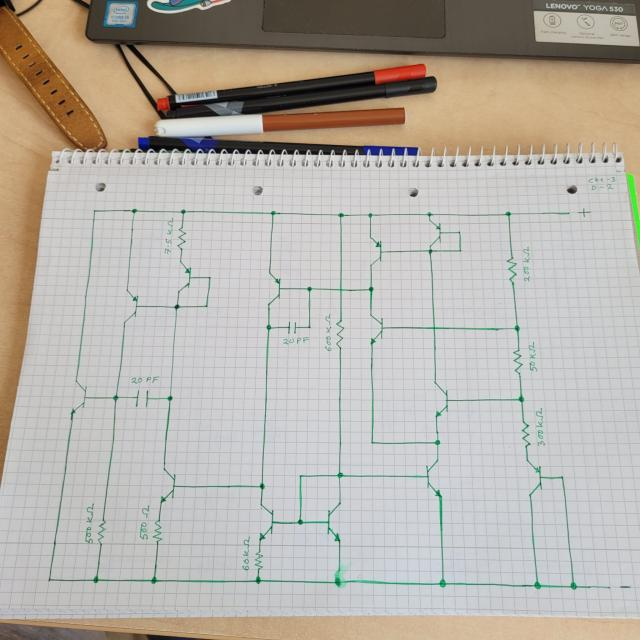capacitor: (134, 387, 151, 409), (285, 320, 298, 336)
crossover: (430, 324, 438, 331), (337, 286, 344, 293)
junction: (332, 576, 344, 587), (532, 579, 543, 590), (568, 581, 578, 591), (438, 578, 448, 588), (111, 392, 120, 402), (512, 323, 522, 332), (516, 394, 526, 403), (432, 438, 442, 447), (165, 393, 174, 402), (296, 517, 305, 526), (503, 209, 512, 218), (336, 470, 344, 480), (178, 208, 188, 216), (92, 574, 100, 584), (130, 206, 138, 215), (268, 208, 277, 216), (254, 576, 262, 584), (258, 482, 266, 490), (172, 303, 180, 311), (150, 576, 158, 584), (366, 210, 374, 218), (305, 284, 313, 292), (367, 284, 375, 292), (336, 210, 344, 218), (296, 472, 304, 480), (368, 438, 376, 446), (265, 323, 272, 331), (558, 474, 566, 481), (90, 208, 98, 215), (426, 210, 432, 218), (203, 303, 210, 309), (46, 576, 52, 583), (206, 274, 212, 280), (306, 324, 312, 330), (456, 229, 462, 235), (458, 248, 463, 254), (428, 248, 433, 254)
resistor: (519, 419, 533, 449), (510, 346, 524, 375), (505, 255, 518, 284), (334, 318, 345, 350), (175, 225, 187, 252), (151, 518, 164, 542), (96, 517, 107, 544), (252, 548, 264, 570)
terminal: (563, 208, 571, 216), (605, 583, 613, 591)
text: (82, 502, 95, 546), (534, 406, 546, 448), (322, 312, 333, 354), (520, 245, 532, 282), (138, 503, 150, 540), (240, 536, 252, 572), (163, 218, 174, 255), (526, 341, 538, 373), (131, 374, 159, 386), (281, 336, 309, 346), (576, 206, 591, 217), (618, 583, 631, 592)
transistor: (67, 377, 89, 419), (324, 500, 344, 544), (523, 457, 544, 498), (158, 465, 180, 502), (430, 380, 450, 420), (423, 458, 443, 497), (257, 503, 275, 540), (264, 270, 282, 307), (122, 287, 138, 324), (366, 235, 384, 267), (367, 312, 385, 344), (426, 218, 443, 249), (176, 261, 192, 292)
